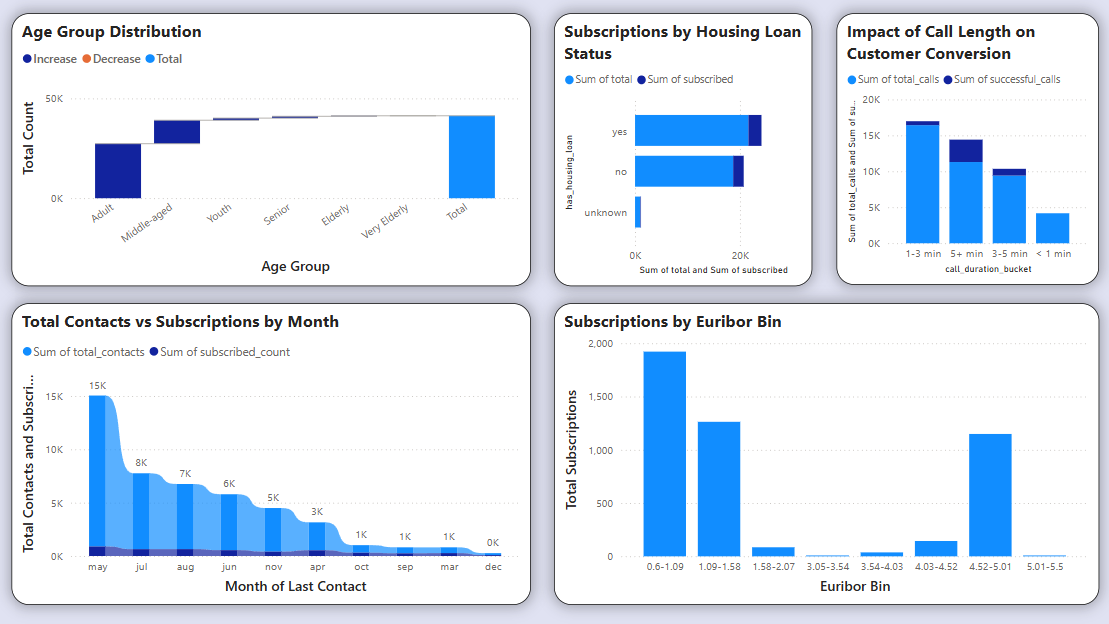

The page's visual inventory and layout, read from the dashboard file:
{"tool":"powerbi","page":{"name":"Page 2","canvas":[1280,720],"ordinal":1},"visuals":[{"type":"waterfallChart","title":"Age Group Distribution","fields":{"Category":["by age.age_group"],"Y":["Sum(by age.count)"]},"box":[20,18.3,593.3,311.7],"z":0},{"type":"ribbonChart","title":"Total Contacts vs Subscriptions by Month","fields":{"Category":["subscription by month.last_contact_month"],"Y":["Sum(subscription by month.total_contacts)","Sum(subscription by month.subscribed_count)"]},"box":[20,350,593.3,345],"z":1000},{"type":"barChart","title":"Subscriptions by Housing Loan Status","fields":{"Category":["house loan and personal loan.has_housing_loan"],"Y":["Sum(house loan and personal loan.total)","Sum(house loan and personal loan.subscribed)"]},"box":[640,18.3,295,311.7],"z":2000},{"type":"columnChart","title":"Impact of Call Length on Customer Conversion","fields":{"Y":["Sum(Call Duration.total_calls)","Sum(Call Duration.successful_calls)"],"Category":["Call Duration.call_duration_bucket"]},"box":[962.9,18.6,300,310],"z":3000},{"type":"clusteredColumnChart","title":"Subscriptions by Euribor Bin","fields":{"Category":["euribor rate.euribor_bin","euribor rate.total_contacts"],"Y":["Sum(euribor rate.total_subscribed)"]},"box":[640,350,623.3,345],"z":4000}]}

Visuals, with their boxes in screenshot pixels (x1, y1, x2, y2), scaled from the page's 1280x720 canvas onto the 1109x624 screenshot:
"Age Group Distribution" waterfallChart: (left=17, top=16, right=531, bottom=286)
"Total Contacts vs Subscriptions by Month" ribbonChart: (left=17, top=303, right=531, bottom=602)
"Subscriptions by Housing Loan Status" barChart: (left=554, top=16, right=810, bottom=286)
"Impact of Call Length on Customer Conversion" columnChart: (left=834, top=16, right=1094, bottom=285)
"Subscriptions by Euribor Bin" clusteredColumnChart: (left=554, top=303, right=1095, bottom=602)
